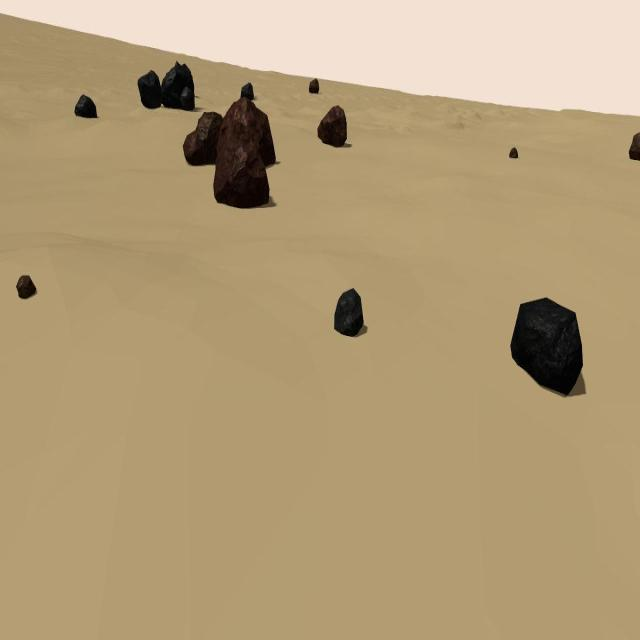rock: (511, 296, 583, 398), (215, 98, 275, 169), (213, 136, 270, 209), (160, 60, 194, 110), (197, 112, 224, 166), (335, 289, 364, 336), (318, 105, 347, 147), (138, 69, 162, 109), (184, 131, 202, 165), (74, 94, 98, 119), (16, 276, 36, 300), (628, 130, 640, 161), (240, 83, 256, 102), (308, 77, 319, 93), (508, 148, 518, 158)
